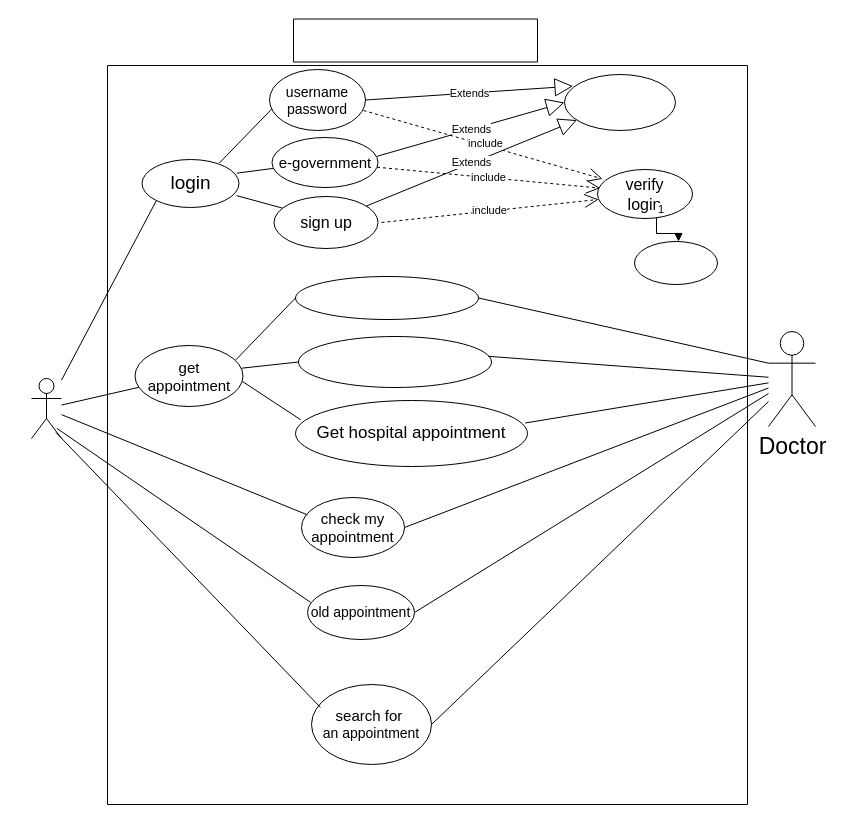
This 843x822 diagram has some shape labels left out. Each missing label, with the box of its shape:
error message: (564, 74, 676, 130)
Family appointment: (298, 336, 492, 388)
name password: (634, 240, 718, 284)
Patient: (30, 378, 62, 438)
System: (292, 18, 538, 62)
vaccine appointment: (294, 276, 478, 320)
